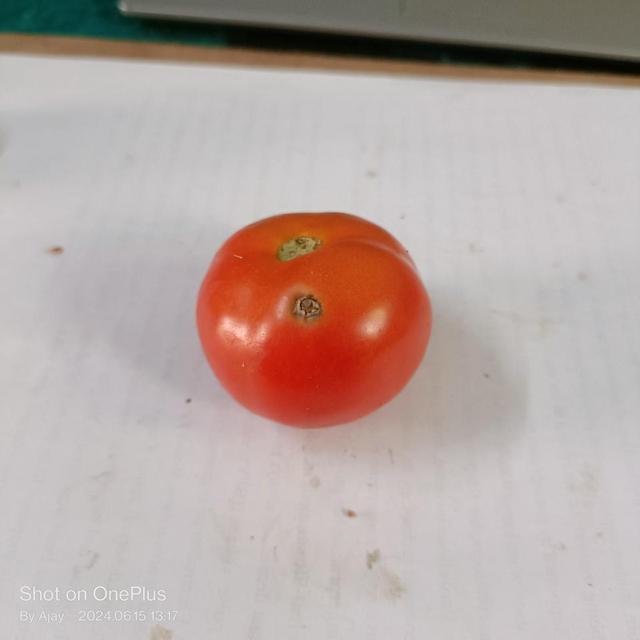Bacterial Spot Fruit: (192, 194, 216, 215)
